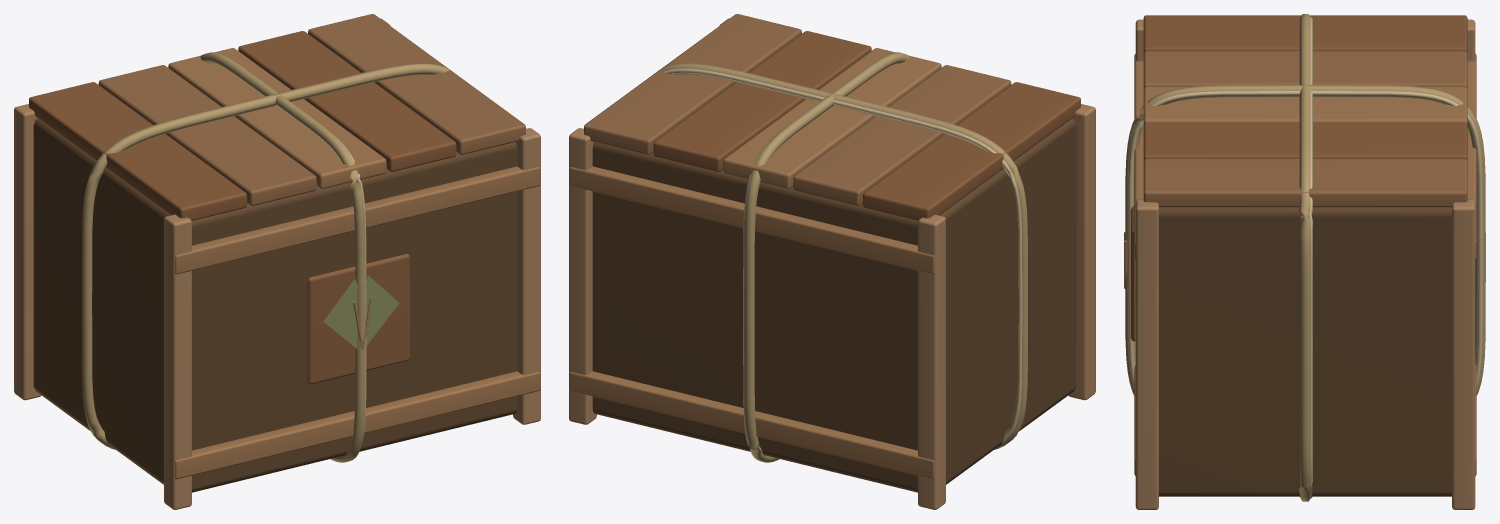
Rendered from tea.glb.
The picture shows the model from 3 angles, left to right: view 1: azimuth 30°, elevation 25°; view 2: azimuth 150°, elevation 25°; view 3: azimuth 270°, elevation 25°; orthographic projection. The views are drawn at different scales.
Parts seen in each view (by area): view 1: Cargo_tea; view 2: Cargo_tea; view 3: Cargo_tea.
Boxes of the visible parts, x1=… form: Cargo_tea: x1=14, y1=14, x2=540, y2=509; Cargo_tea: x1=569, y1=14, x2=1095, y2=509; Cargo_tea: x1=1124, y1=14, x2=1485, y2=509.
Bounding box in the file's own units: 0.919 × 0.7308 × 0.6979.
